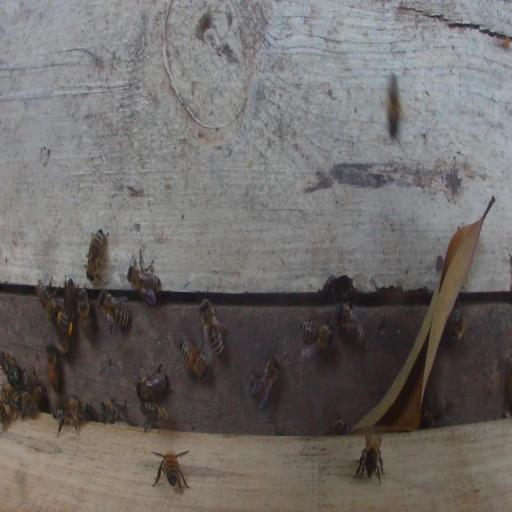nonpollenbee: (249, 353, 282, 411), (127, 248, 161, 302), (153, 449, 190, 494), (199, 299, 226, 357), (98, 289, 131, 332), (86, 227, 109, 283), (179, 340, 211, 380), (36, 275, 63, 321), (337, 301, 365, 345), (300, 319, 334, 355), (387, 72, 404, 143), (76, 285, 97, 341), (136, 366, 170, 400), (53, 396, 81, 437), (357, 439, 384, 480), (2, 385, 32, 420), (45, 341, 64, 394), (140, 402, 170, 433), (22, 369, 44, 406), (447, 301, 466, 343), (1, 350, 22, 386), (99, 399, 128, 424), (327, 416, 350, 435), (421, 409, 436, 428), (65, 278, 73, 312), (82, 405, 98, 420)
pollenbee: (57, 310, 73, 349)
